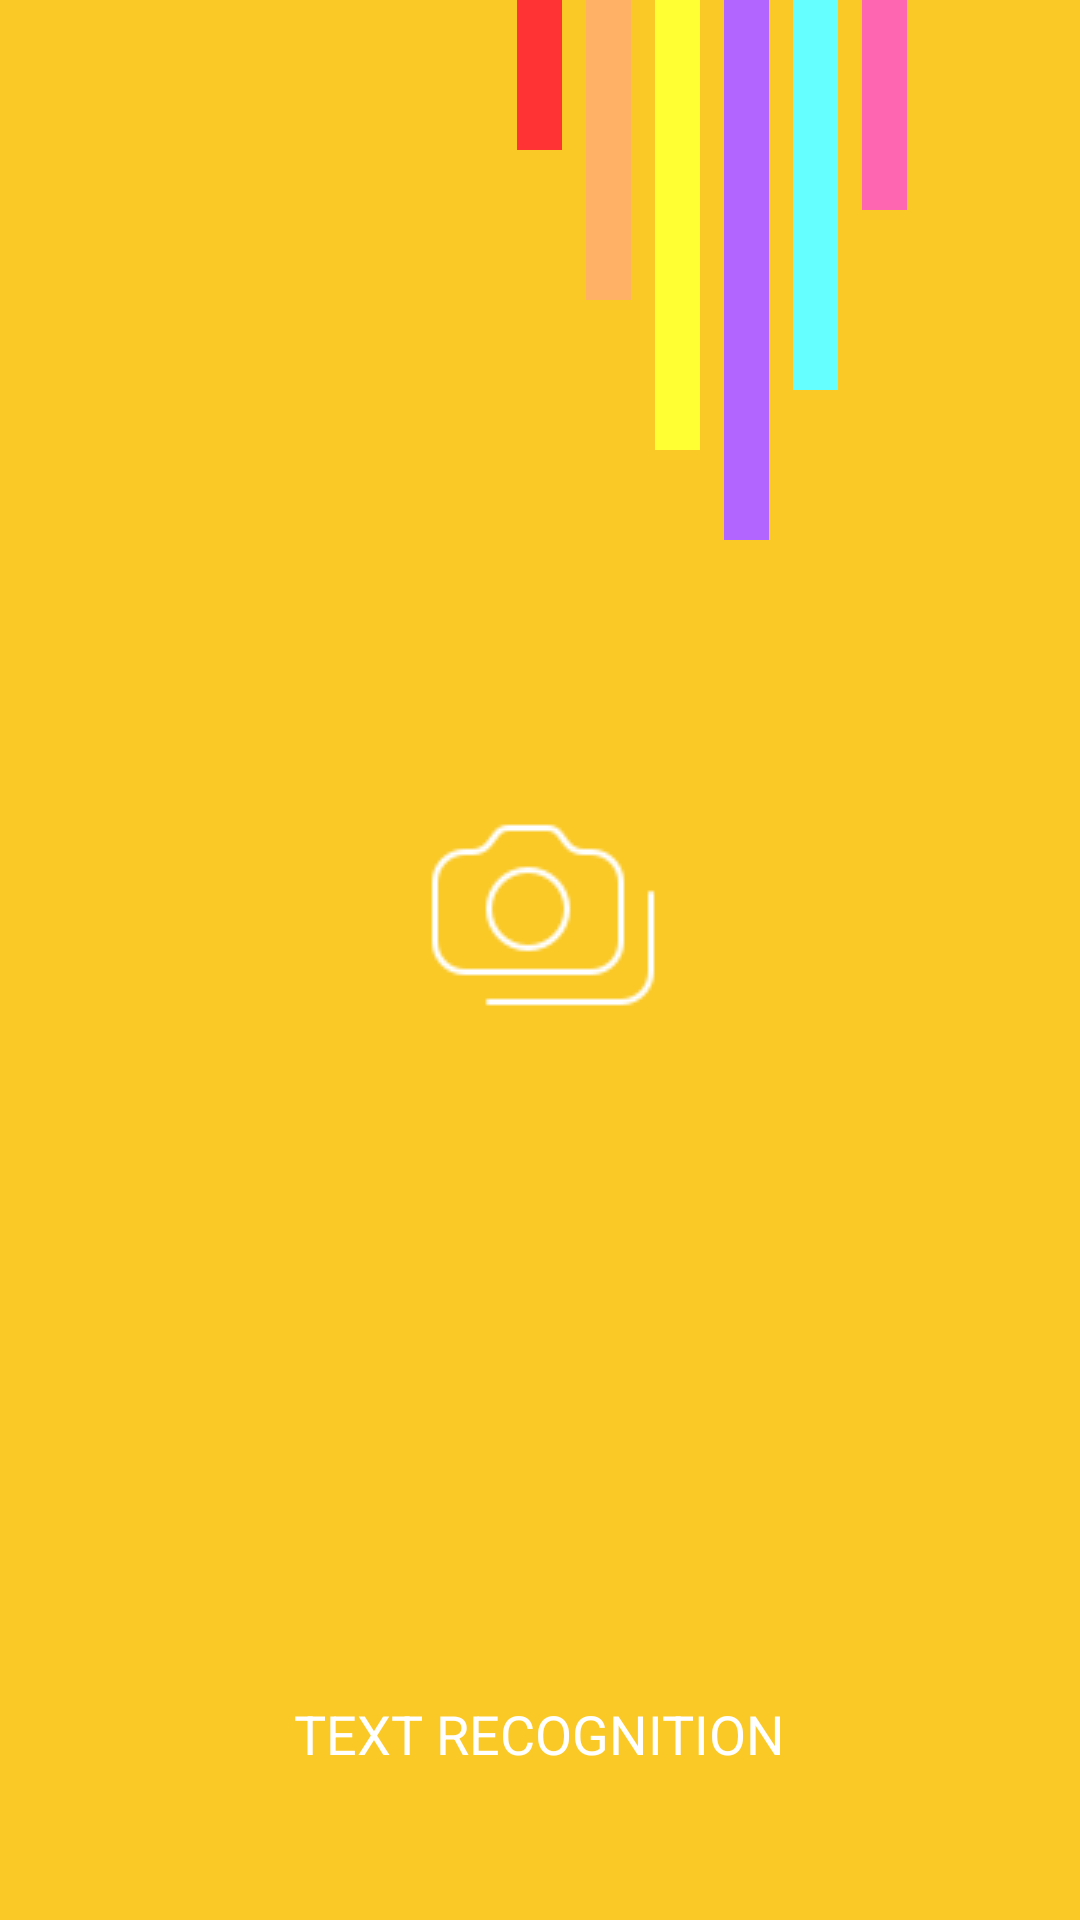

Where icons sit on this 1080 × 1920 app screen, as (x1, y1, x2, y2):
cameras: (431, 824, 655, 1006)
